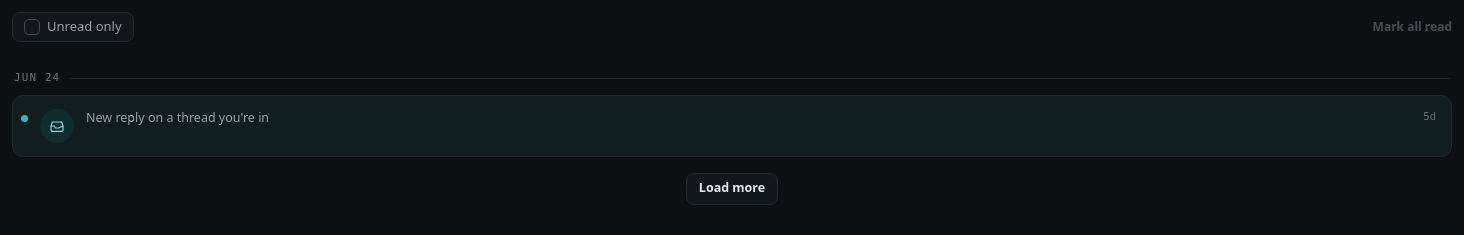
Test: For-you inbox (your-activity-inbox S-001) › C-006: 'Load more' pages in beyond page 1 and merges into the same list
expect the button with test id "inbox-row-p1" is shown: met, box [13,96,1451,156]
Click the button with test id "inbox-load-more". click: (732, 188)
box: [686,172,778,204]
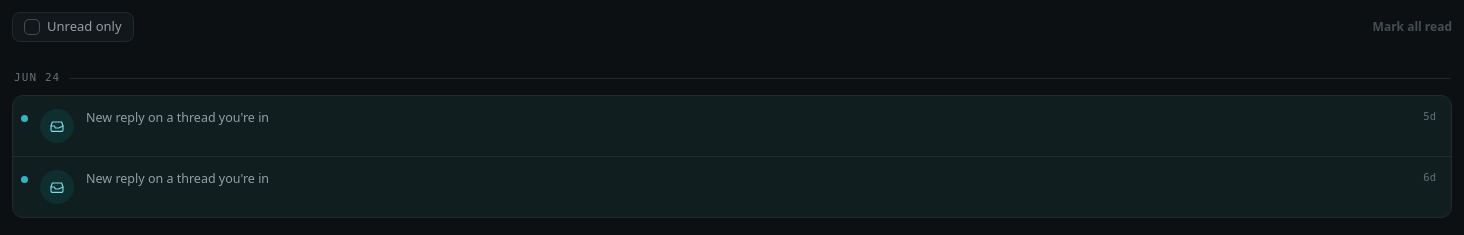
expect the button with test id "inbox-row-p1" is shown: met, box [13,96,1451,156]
expect the button with test id "inbox-row-p2" is shown: met, box [13,156,1451,216]
